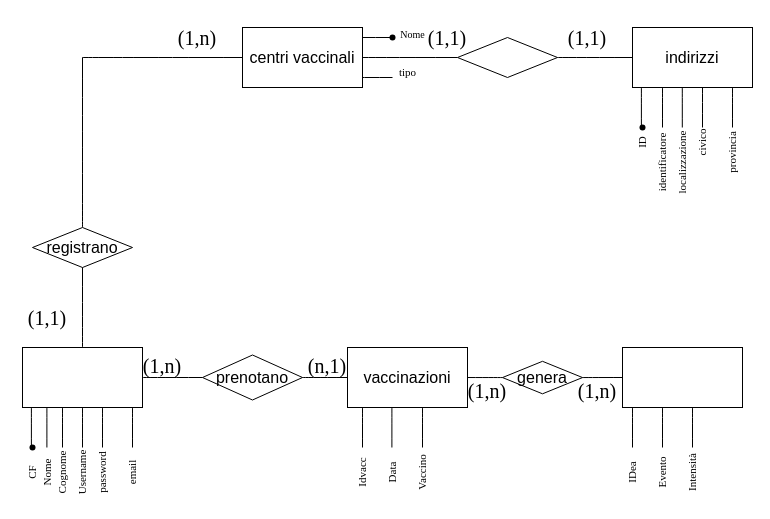
This 770x519 diagram has some shape labels left out. The shapes that lost their labels are listed below. From the top down, each one's centre as x and y in pixels, then its label:
At pixel 507 57: "possiede".
At pixel 82 377: "cittadini".
At pixel 682 377: "eventi avversi".
